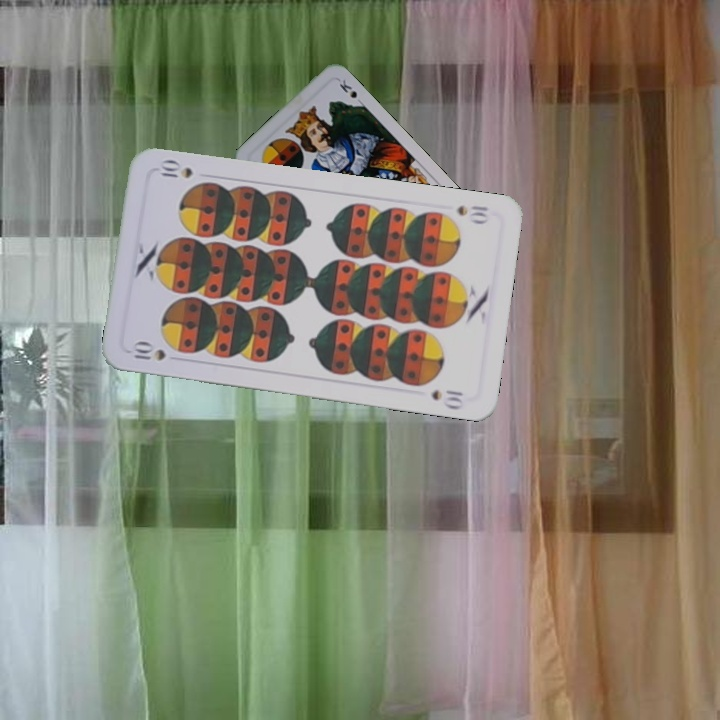S10: (452, 201, 491, 226), (128, 339, 168, 363)
